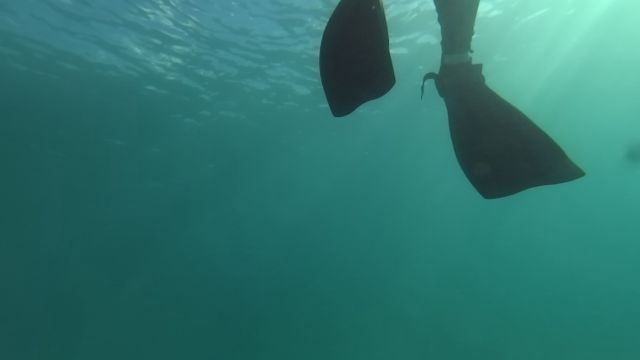Diver: (314, 1, 588, 204)
